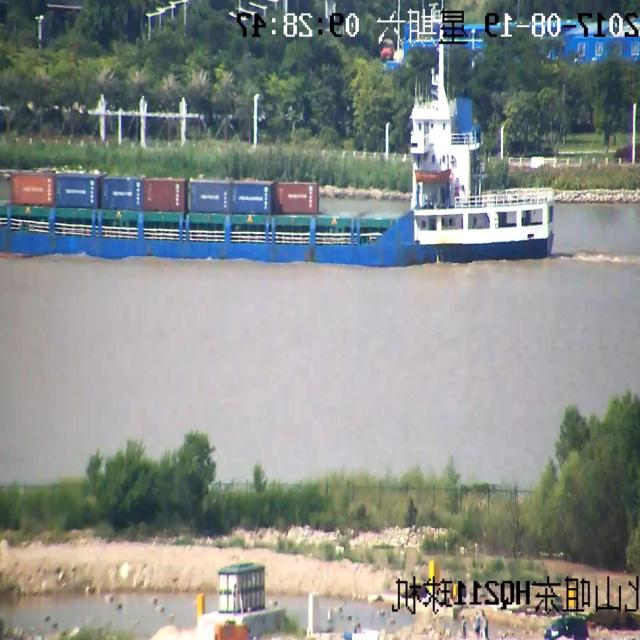cargoship: (18, 87, 547, 276)
